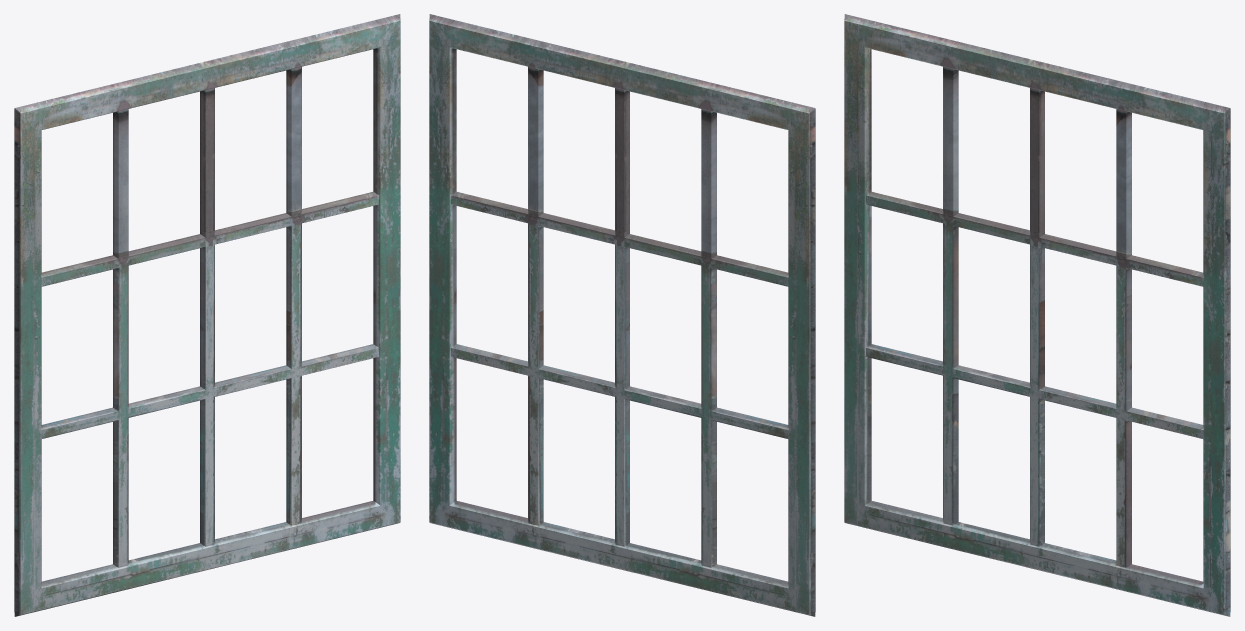
The model's file is sm_Wall_06_21_Window.fbx.
The picture shows the model from 3 angles, left to right: view 1: azimuth 30°, elevation 25°; view 2: azimuth 150°, elevation 25°; view 3: azimuth 330°, elevation 25°; orthographic projection.
Visible parts, largest first — view 1: sm_Wall_06_21_Window_LOD0; view 2: sm_Wall_06_21_Window_LOD0; view 3: sm_Wall_06_21_Window_LOD0.
Part boxes in pixels (box(x1,y1,x2,y2)): sm_Wall_06_21_Window_LOD0: box(14, 14, 400, 616); sm_Wall_06_21_Window_LOD0: box(429, 14, 815, 616); sm_Wall_06_21_Window_LOD0: box(844, 14, 1230, 616).
Bounding box in the file's own units: 4.98 × 172 × 217.
